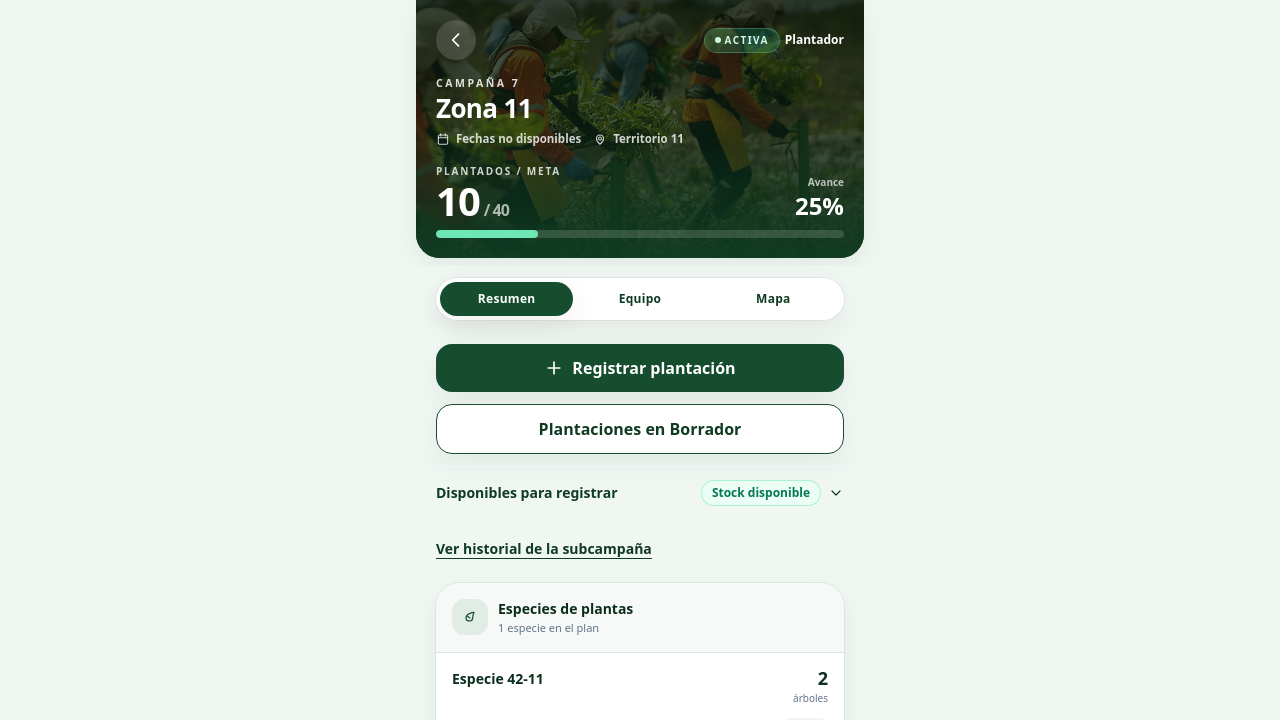
Test case: Participar centrado en campañas y subcampañas habilitadas › actualiza los dos indicadores de la zona sin limitar registros por superar la meta
Expected: the link "Registrar plantación" is shown, [436,344,844,392]
Click the button named "Volver" at (456, 40), box [436,20,476,60]
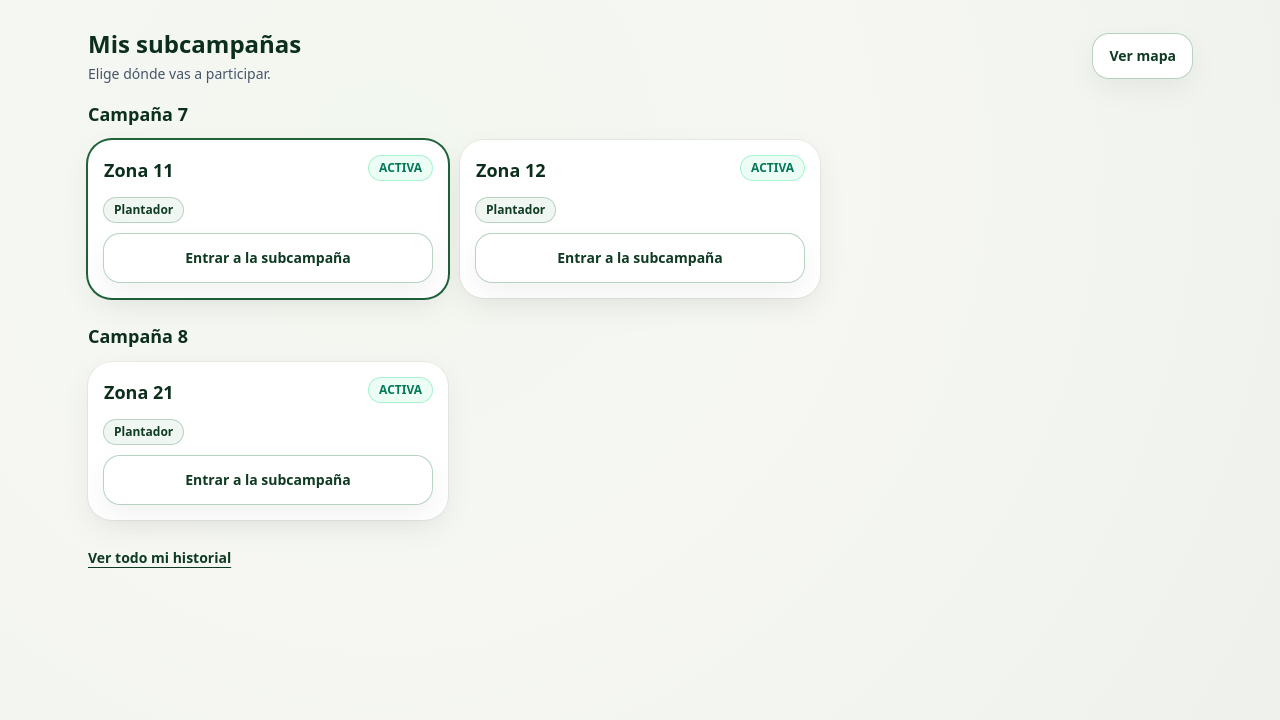
Click the button with aria-label "Entrar a la subcampaña: Zona 12" at (640, 258), box [476,234,804,282]
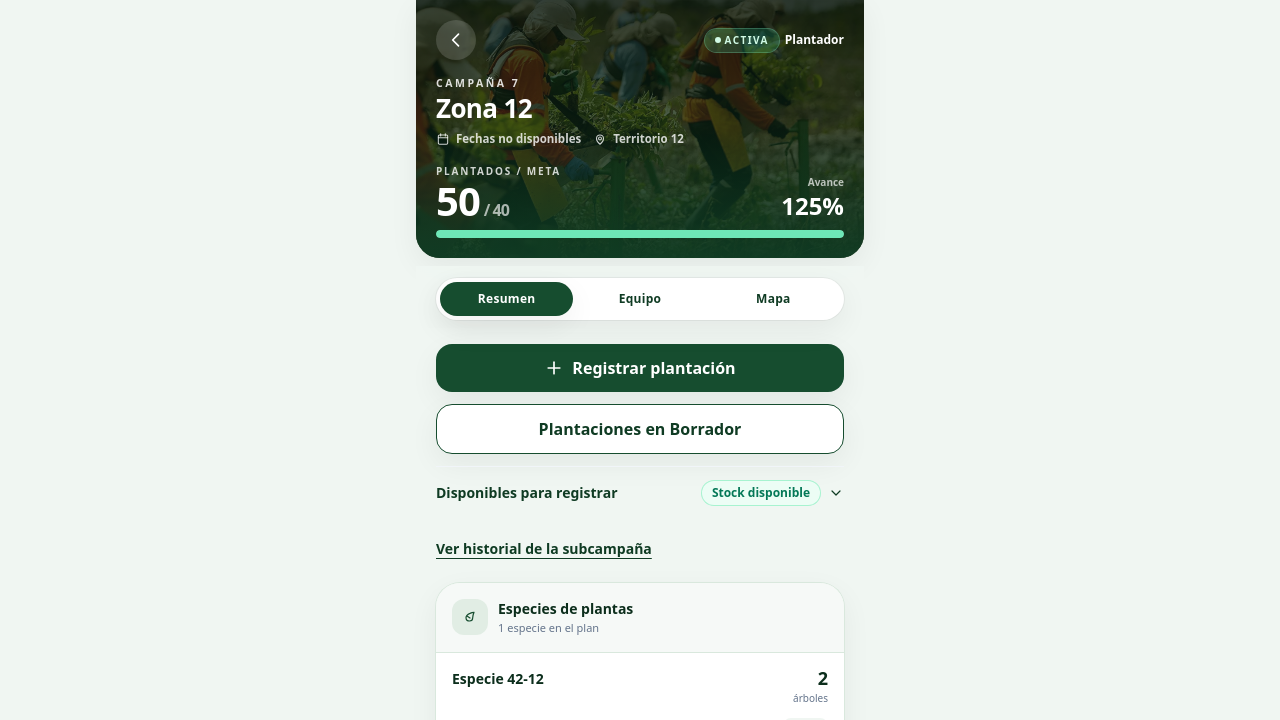
Result: the element named "Plantados: 50. Meta: 40" is shown at [436,173,509,228]
